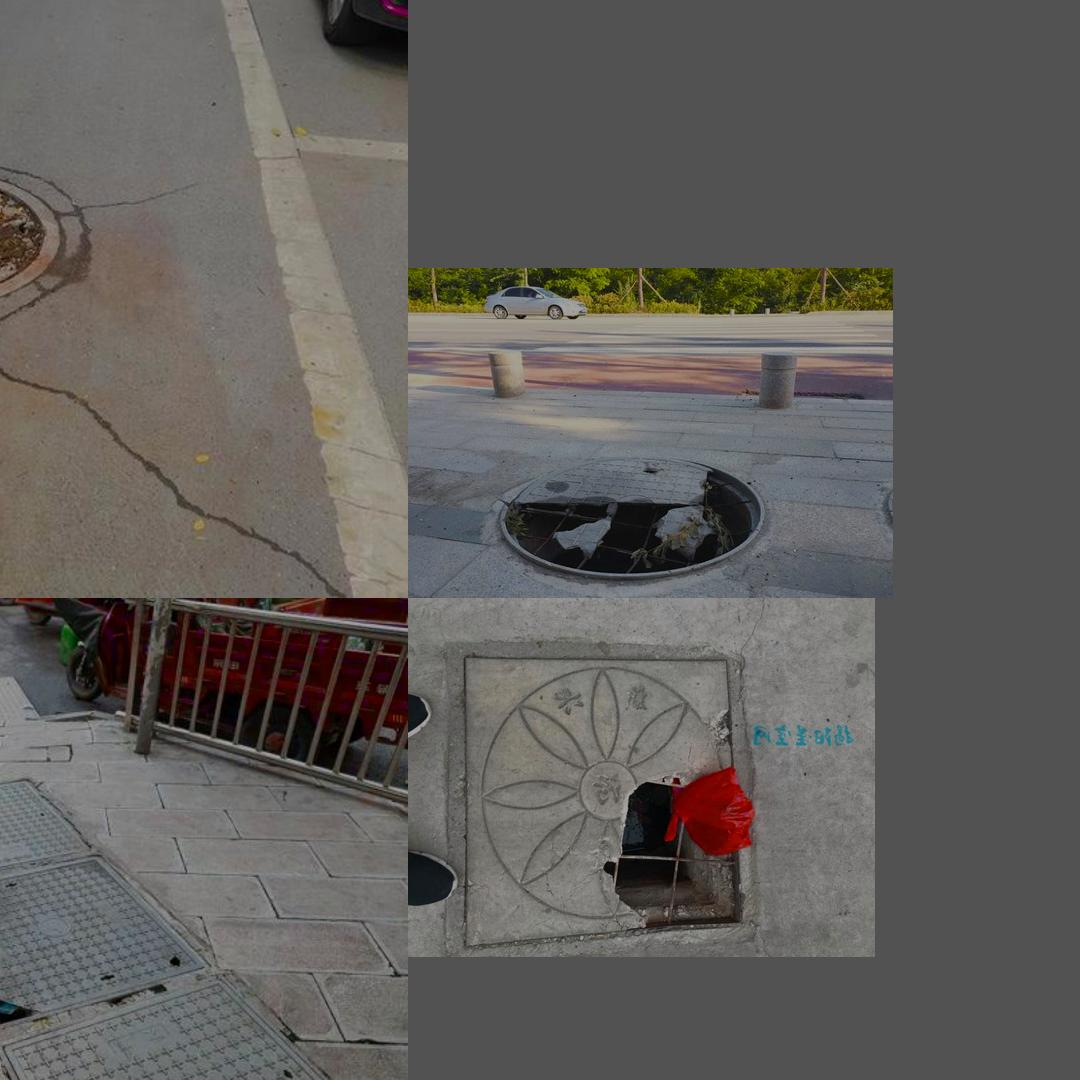broke: (440, 631, 785, 957), (491, 432, 775, 590), (0, 866, 220, 1032), (0, 134, 97, 342)
